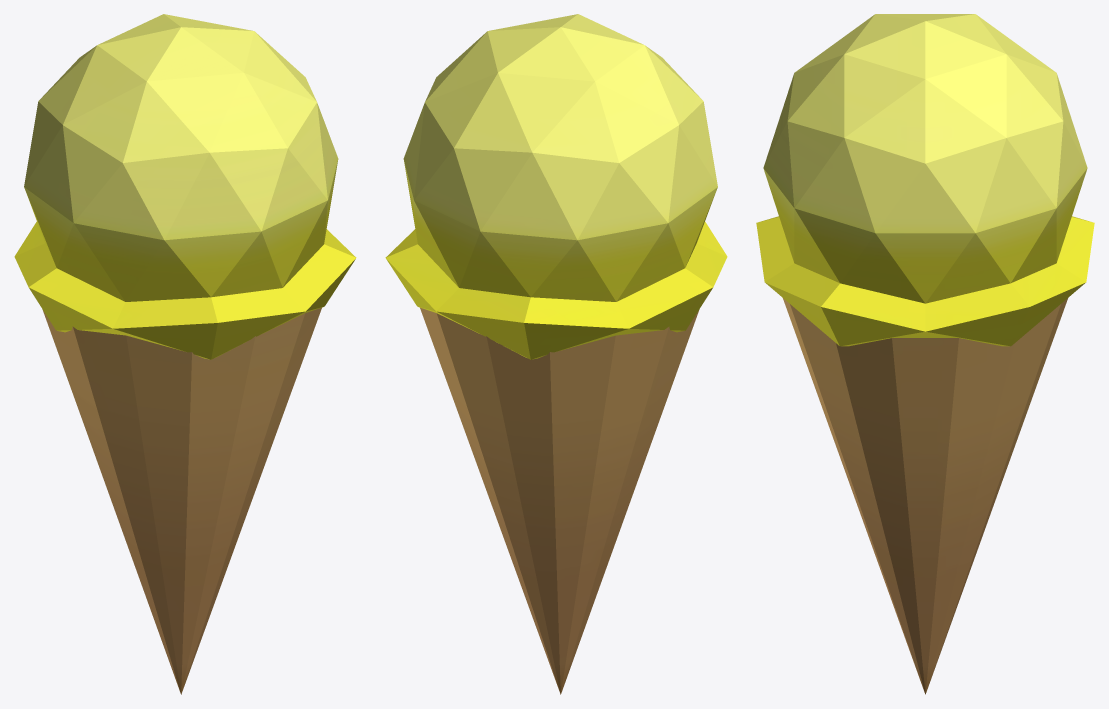
File: quaternius-junk-food-icecream-2.glb
3 renders of one model, left to right at view 1: azimuth 30°, elevation 25°; view 2: azimuth 150°, elevation 25°; view 3: azimuth 270°, elevation 25°, orthographic.
Parts seen in each view (by area): view 1: Icecream; view 2: Icecream; view 3: Icecream.
Part boxes in pixels (x1=…): Icecream: x1=14, y1=14, x2=356, y2=694; Icecream: x1=385, y1=14, x2=727, y2=694; Icecream: x1=756, y1=14, x2=1094, y2=694.
Bounding box in the file's own units: 0.854 × 1.83 × 0.8328.
1 material, 1 textured.
